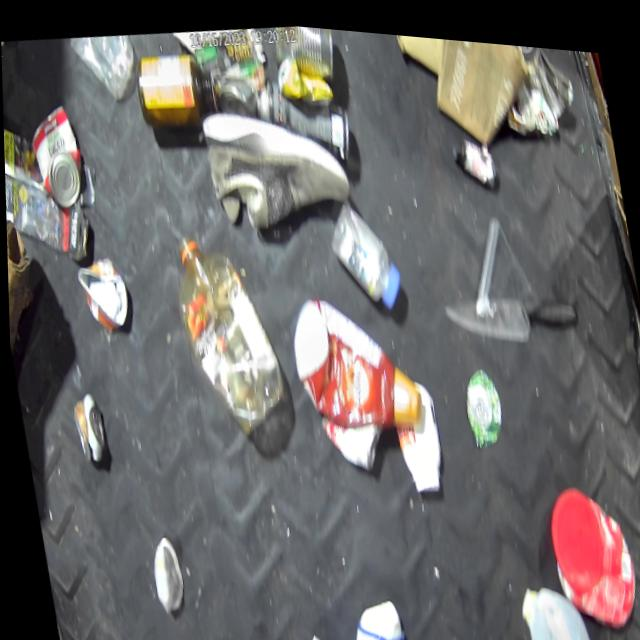can: (252, 63, 357, 171), (24, 96, 90, 214), (70, 251, 134, 338), (317, 400, 388, 474), (269, 19, 341, 85), (457, 354, 508, 443), (67, 390, 109, 467), (214, 61, 262, 120)
milk_jug: (512, 562, 598, 640)
non_white_jug: (165, 217, 292, 444), (282, 274, 426, 440), (538, 464, 640, 631)
